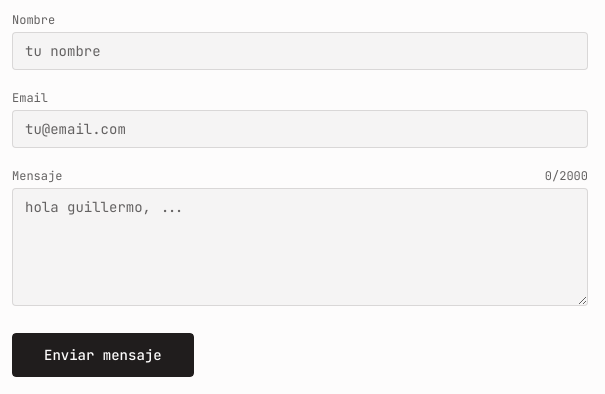
Test: ContactForm › envía los datos y muestra feedback de éxito
Type "Ana" into the field labelled "Nombre". click: (300, 51)
box: [12,32,588,70]
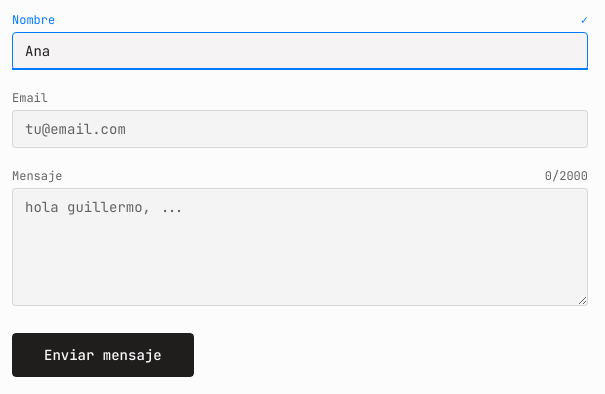
Type "ana@test.com" into the field labelled "Email". click: (300, 129)
box: [12,110,588,148]
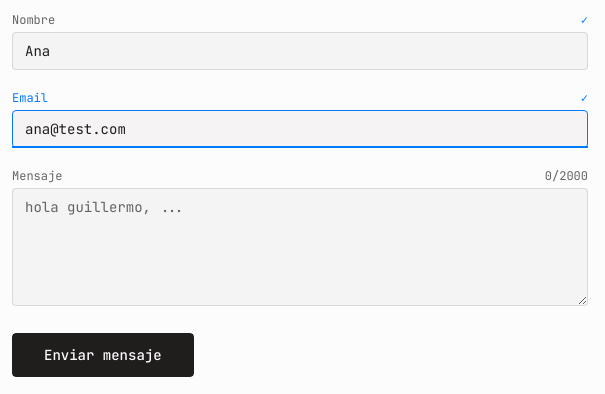
Type "Hola, te escribo por una oportunidad laboral" into the text box labelled "Mensaje". click: (300, 247)
box: [12,188,588,306]
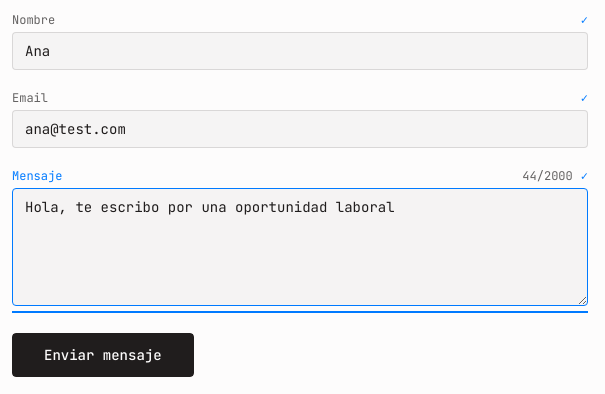
Click the button "Enviar mensaje". click: (103, 355)
box: [12,333,194,377]
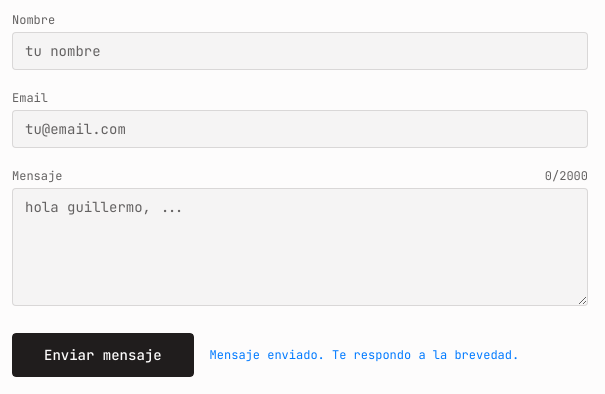
Now the text "Mensaje enviado. Te respondo a la brevedad." is shown, box [210,347,519,363]
